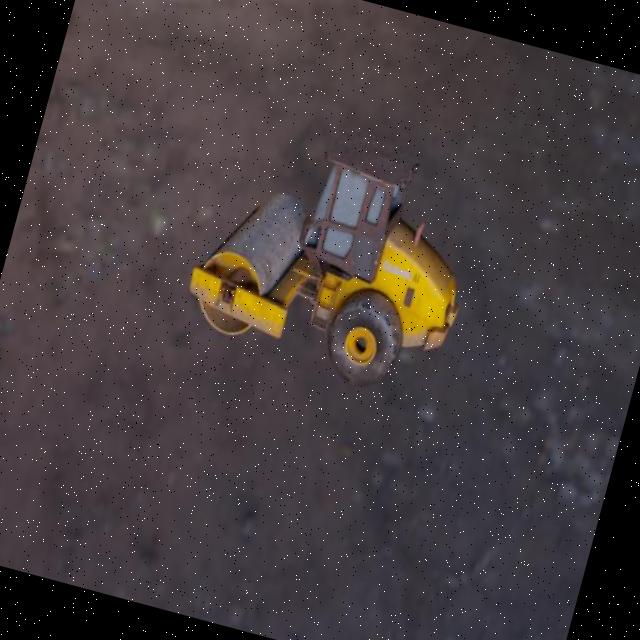Roller: (174, 95, 496, 406)
